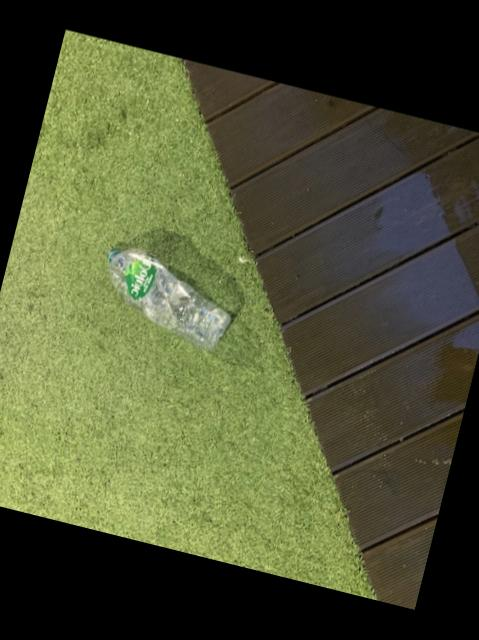plastic: (106, 247, 228, 348)
